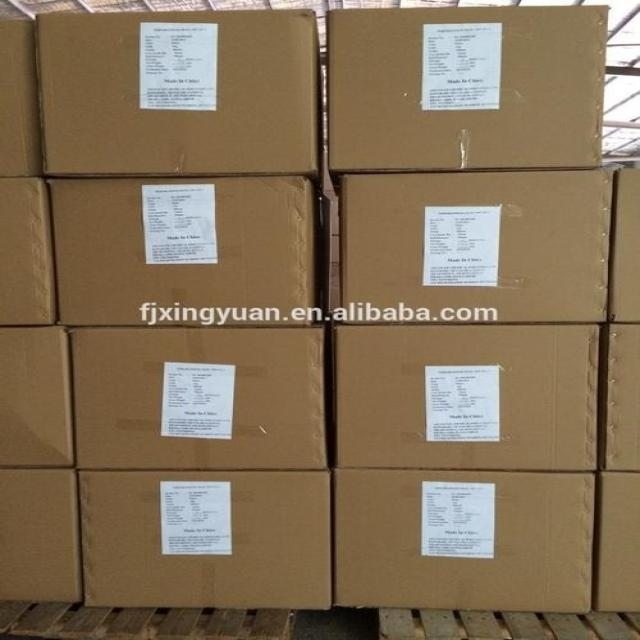box: (325, 3, 608, 173), (37, 11, 316, 179), (334, 168, 617, 324), (46, 178, 334, 326), (323, 323, 607, 471), (333, 470, 595, 614), (69, 326, 330, 469), (78, 468, 333, 609), (0, 469, 83, 604), (0, 323, 77, 468), (0, 178, 55, 323), (0, 16, 45, 179), (594, 469, 640, 613), (596, 324, 640, 473), (607, 169, 640, 326)
